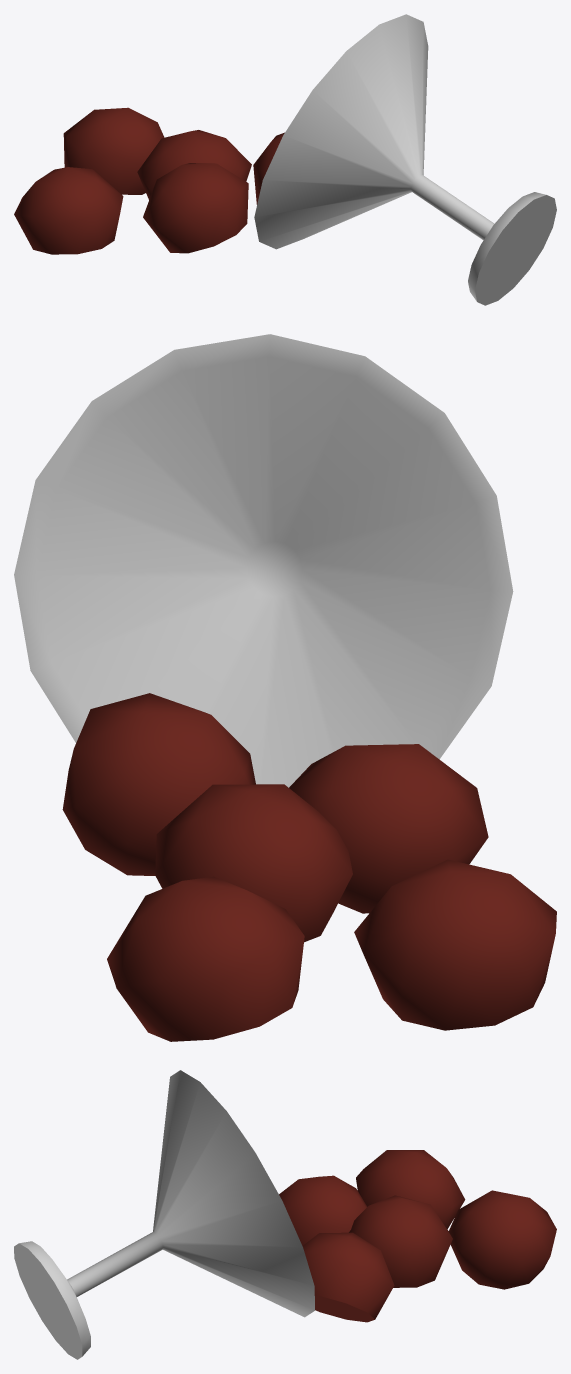
Rendered from Spilled-Ice-Cream.fbx.
3 views of the same model, one above another, from view 1: azimuth 30°, elevation 25°; view 2: azimuth 150°, elevation 25°; view 3: azimuth 270°, elevation 25° (orthographic). The views are drawn at different scales.
Visible parts, largest first — view 1: Spilled-Ice-Cream; view 2: Spilled-Ice-Cream; view 3: Spilled-Ice-Cream.
Boxes of the visible parts, x1,y1,x2,y2 form: Spilled-Ice-Cream: (14,14,556,305); Spilled-Ice-Cream: (14,334,556,1041); Spilled-Ice-Cream: (14,1070,556,1359).
Bounding box in the file's own units: 0.281 × 0.1803 × 0.355.
